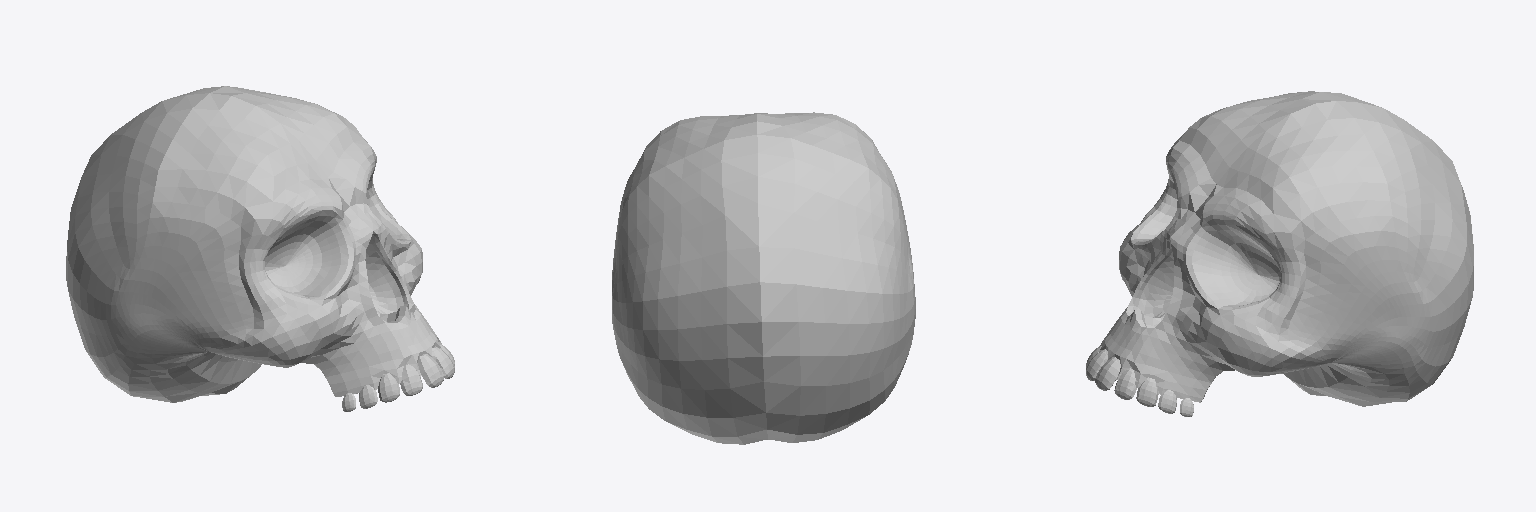
The model's file is Skull.obj.
3 views of the same model, side by side, from view 1: azimuth 30°, elevation 25°; view 2: azimuth 150°, elevation 25°; view 3: azimuth 270°, elevation 25° (orthographic).
Parts seen in each view (by area): view 1: Skull; view 2: Skull; view 3: Skull.
Part boxes in pixels (bbox=[...]): Skull: bbox=[66, 86, 454, 411]; Skull: bbox=[612, 112, 915, 444]; Skull: bbox=[1086, 91, 1473, 416].
Bounding box in the file's own units: 5.61 × 5.29 × 6.25.